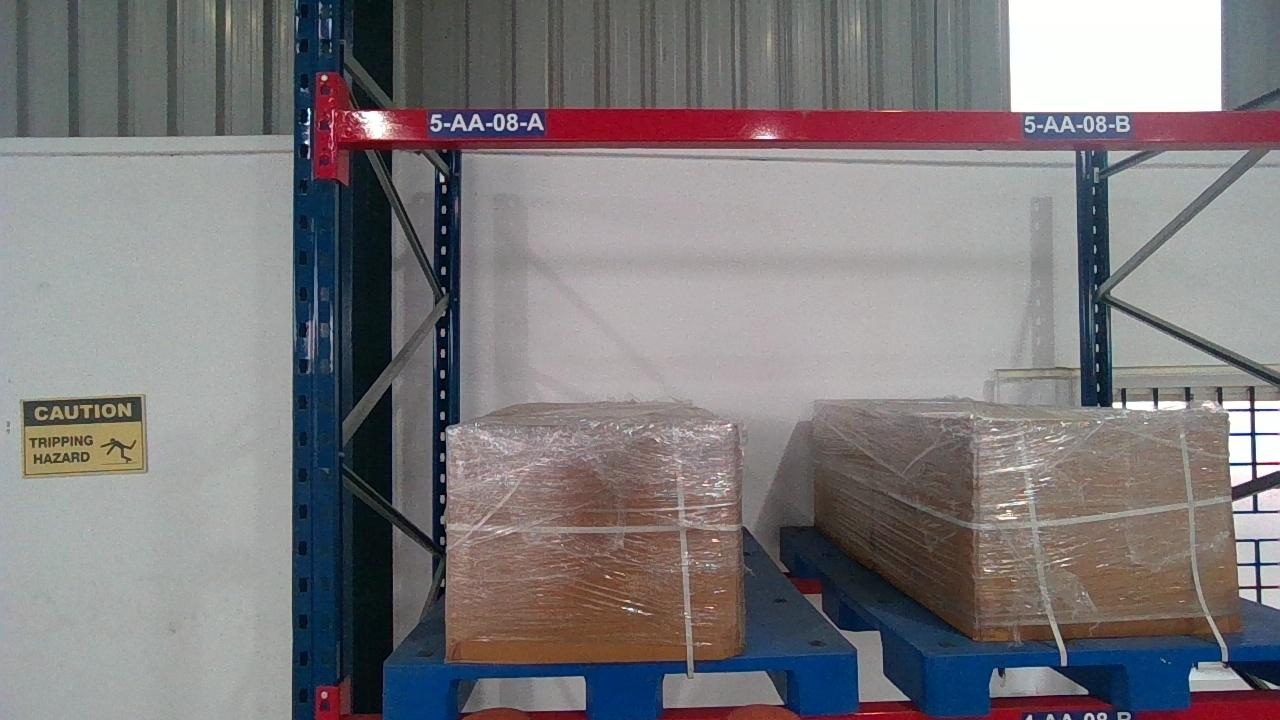h_rack: (341, 106, 1275, 142), (319, 699, 1276, 719)
small_pallet: (378, 655, 859, 716), (927, 648, 1278, 708)
